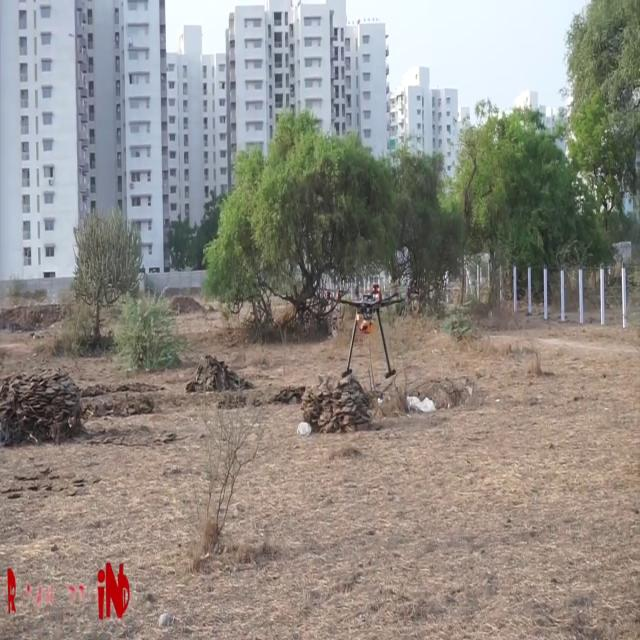drone: (305, 261, 419, 375)
